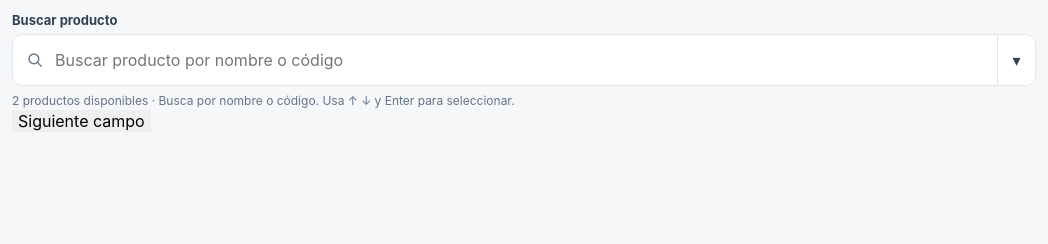
Test case: finds words in any order without accents and supports product codes
The image size is (1048, 244).
In the dropdown named "Producto buscable": (524, 60) [12,34,1036,86], type "AGUA MANGUERA conduccion"
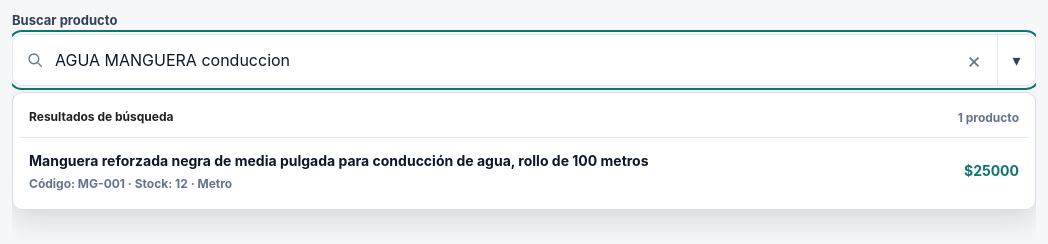
Result: the number of options is 1 at [19,138,1029,203]
Replace the text in the dropdown named "Producto buscable" with "tr-02": (524, 60) [12,34,1036,86]
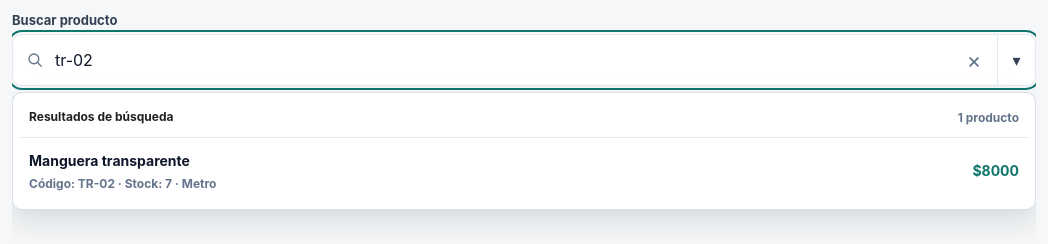
Press Enter
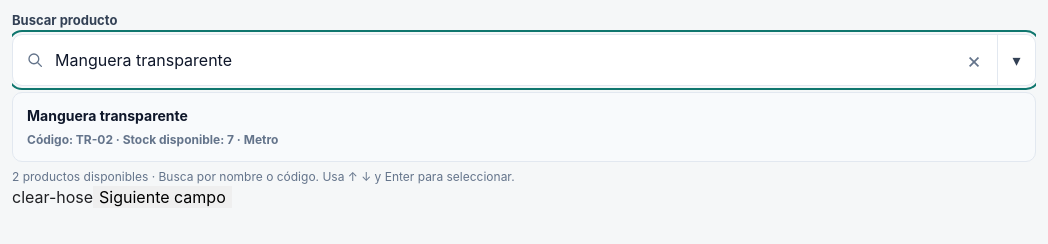
Result: the text named "Producto elegido" reads "clear-hose" at [12,187,93,207]
Result: the dropdown named "Producto buscable" holds "Manguera transparente" at [12,34,1036,86]
